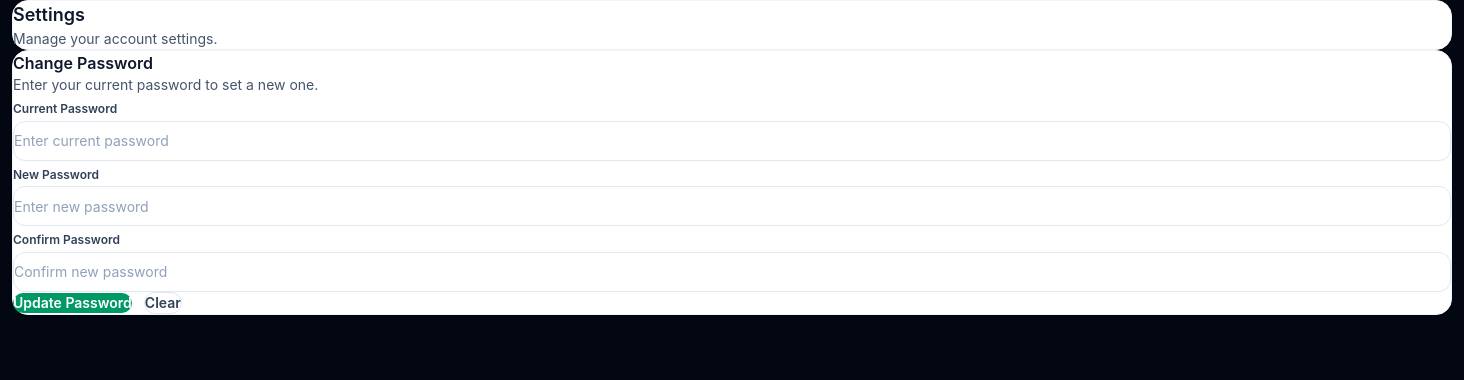
SettingsPage › validates required fields
Click the button "Update Password" at {"x": 72, "y": 303}, box [13,293,132,313]
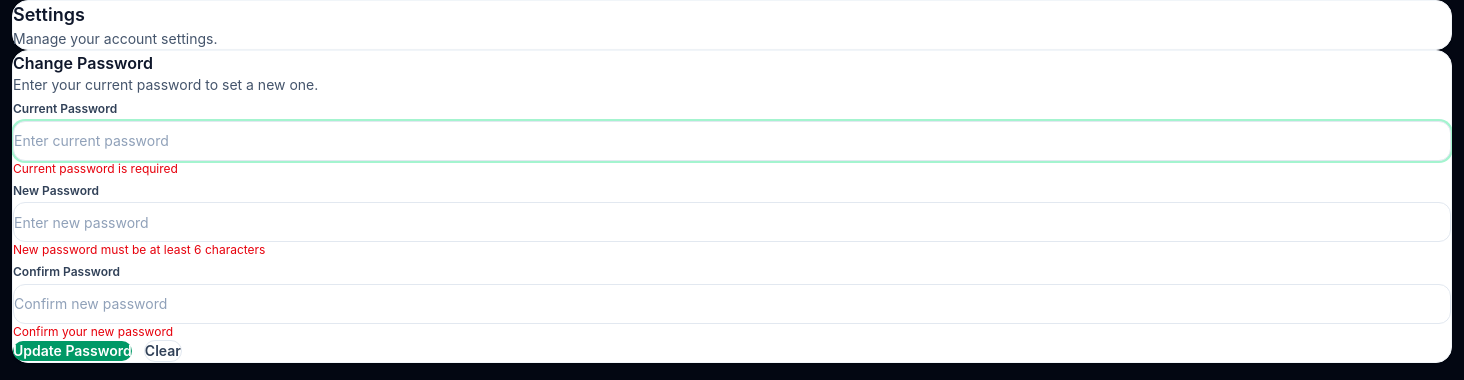
Expected: the text "Current password is required" is shown, [13,161,178,176]
